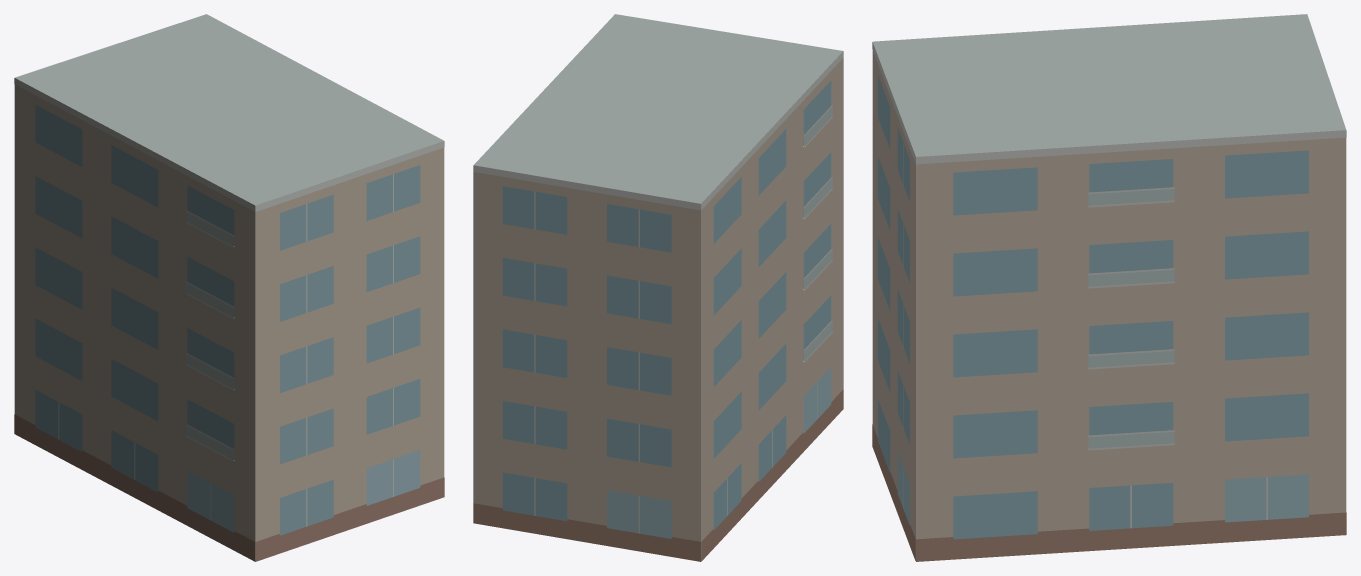
The model's file is survey-upis-33024530.glb.
The picture shows the model from 3 angles, left to right: view 1: azimuth 30°, elevation 25°; view 2: azimuth 150°, elevation 25°; view 3: azimuth 270°, elevation 25°; orthographic projection. The views are drawn at different scales.
Parts seen in each view (by area): view 1: survey-upis-33024530.tmp; view 2: survey-upis-33024530.tmp; view 3: survey-upis-33024530.tmp.
Part boxes in pixels (x1,y1,x2,y2): survey-upis-33024530.tmp: (14, 14, 444, 561); survey-upis-33024530.tmp: (473, 14, 843, 561); survey-upis-33024530.tmp: (872, 14, 1346, 561).
Bounding box in the file's own units: 10.12 × 13.35 × 14.18.
